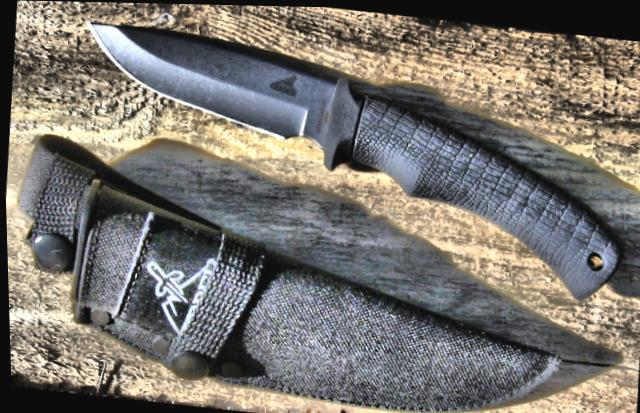knife: (64, 12, 401, 184)
